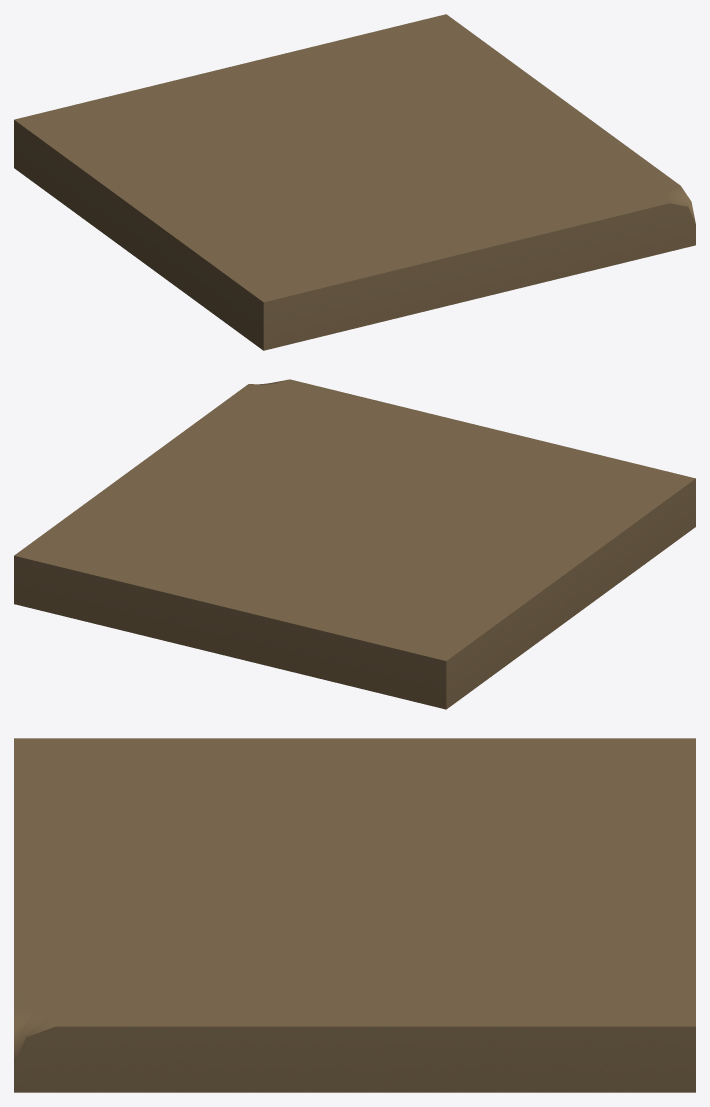
Rendered from SM_Base_Indent_1.fbx.
The picture shows the model from 3 angles, top to bottom: view 1: azimuth 30°, elevation 25°; view 2: azimuth 150°, elevation 25°; view 3: azimuth 270°, elevation 25°; orthographic projection. The views are drawn at different scales.
Parts seen in each view (by area): view 1: Base_Indent_1; view 2: Base_Indent_1; view 3: Base_Indent_1.
Part boxes in pixels (x1,y1,x2,y2): Base_Indent_1: (14, 14, 695, 350); Base_Indent_1: (14, 379, 695, 709); Base_Indent_1: (14, 738, 695, 1092).
Bounding box in the file's own units: 200 × 21.42 × 200.
